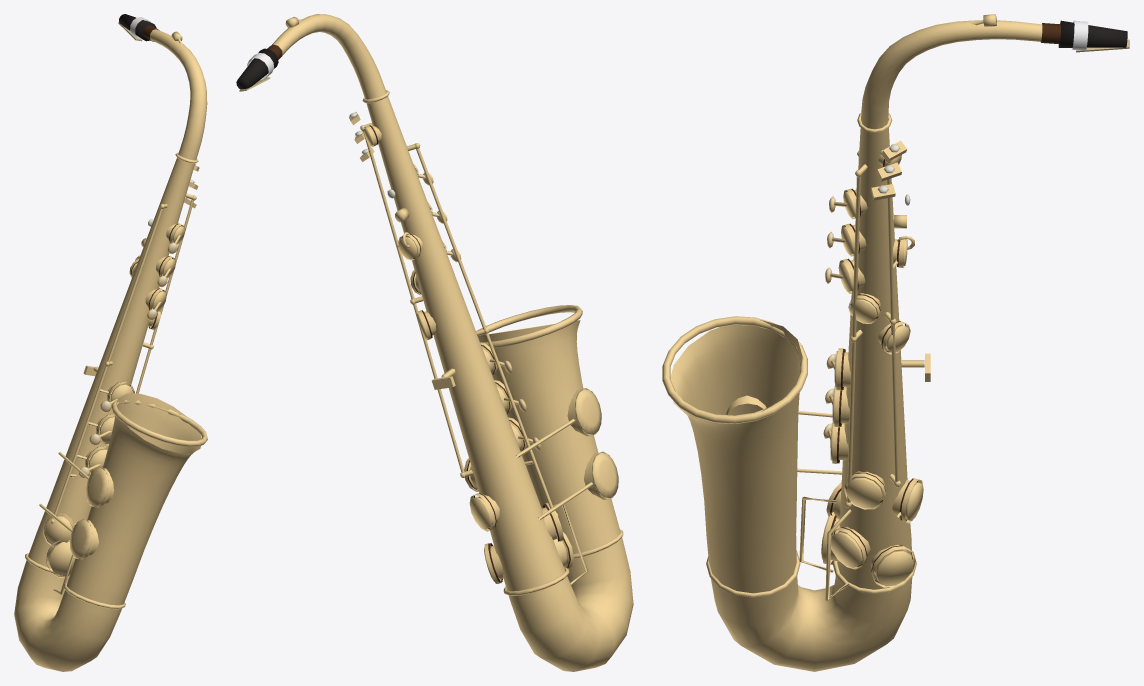
Rendered from instr_sax.glb.
3 views of the same model, side by side, from view 1: azimuth 30°, elevation 25°; view 2: azimuth 150°, elevation 25°; view 3: azimuth 270°, elevation 25° (orthographic). The views are drawn at different scales.
Parts seen in each view (by area): view 1: sax_saxbrass, sax_leather, sax_ebony; view 2: sax_saxbrass, sax_leather, sax_ebony; view 3: sax_saxbrass, sax_leather, sax_ebony.
Part boxes in pixels (x1,y1,x2,y2): sax_saxbrass: (14, 29, 207, 671); sax_leather: (44, 25, 182, 576); sax_ebony: (119, 14, 156, 41); sax_saxbrass: (272, 14, 633, 671); sax_leather: (267, 44, 570, 582); sax_ebony: (236, 48, 278, 89); sax_saxbrass: (662, 14, 1042, 671); sax_leather: (830, 23, 1061, 582); sax_ebony: (1058, 20, 1127, 47).
Size of the model in its own units: 0.3839 by 0.9325 by 0.504.
